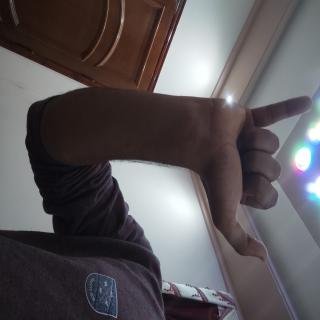YA: (66, 4, 197, 166)
